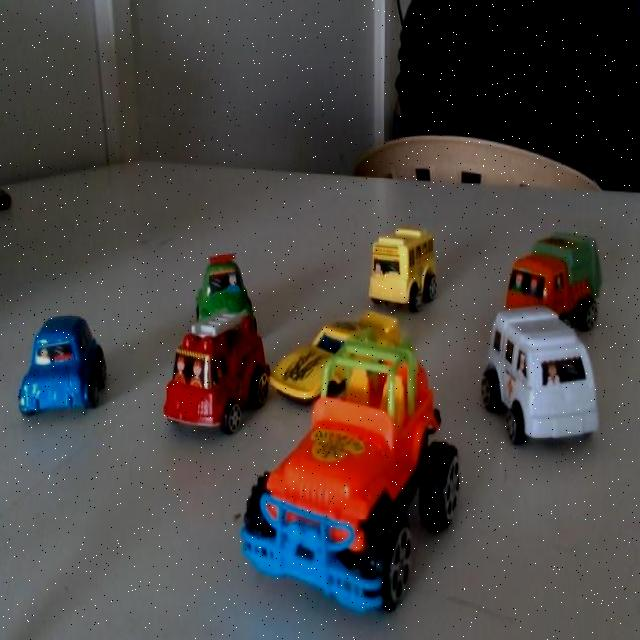car: (233, 423, 390, 618), (260, 296, 403, 434), (7, 306, 110, 440), (486, 322, 590, 436), (158, 314, 247, 446), (496, 226, 589, 338), (180, 253, 254, 354), (358, 218, 424, 312)
